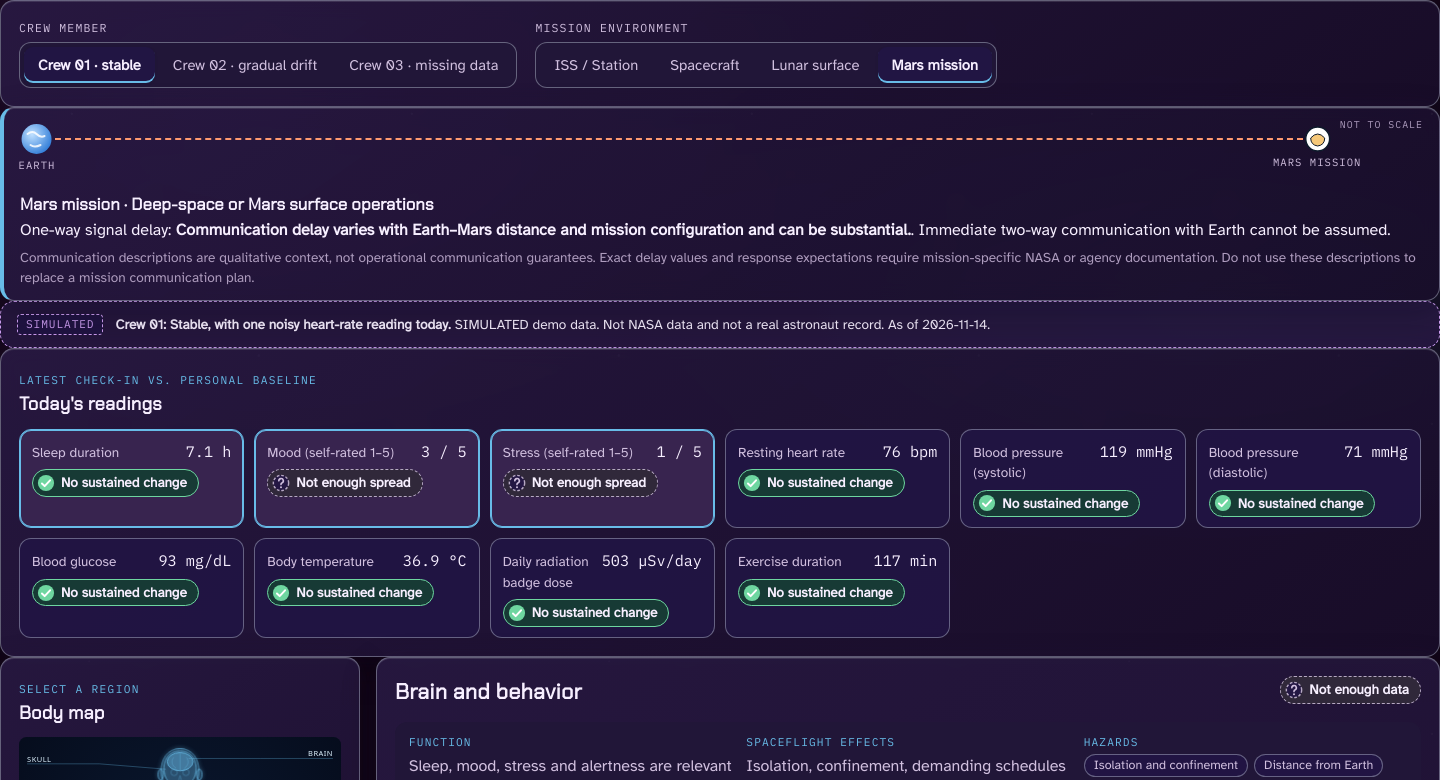
Scenario: DashboardPage (simulated fixtures) › opens on the most urgent region and updates the comms banner when the environment changes
Click the radio button labelled "Crew 02 · gradual drift".
click(245, 65)  # box [173,56,317,74]
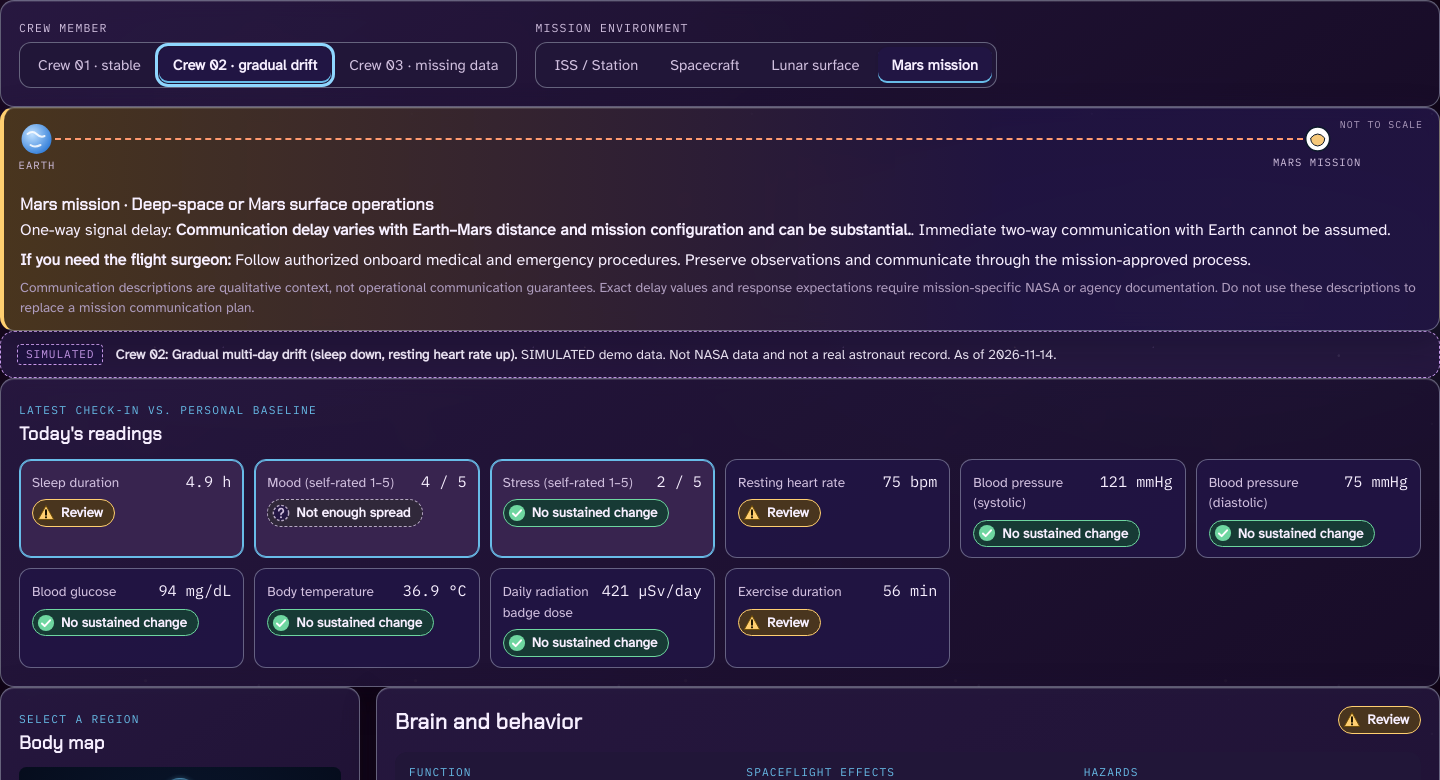
Expected: the element with test id "region-panel" shows "Brain and behavior", [395,708,582,736]
Expected: the message with test id "comms-banner" shows "Mars mission", [1273,155,1362,169]
Click the radio button labelled "Lunar surface".
click(816, 65)  # box [772,56,860,74]
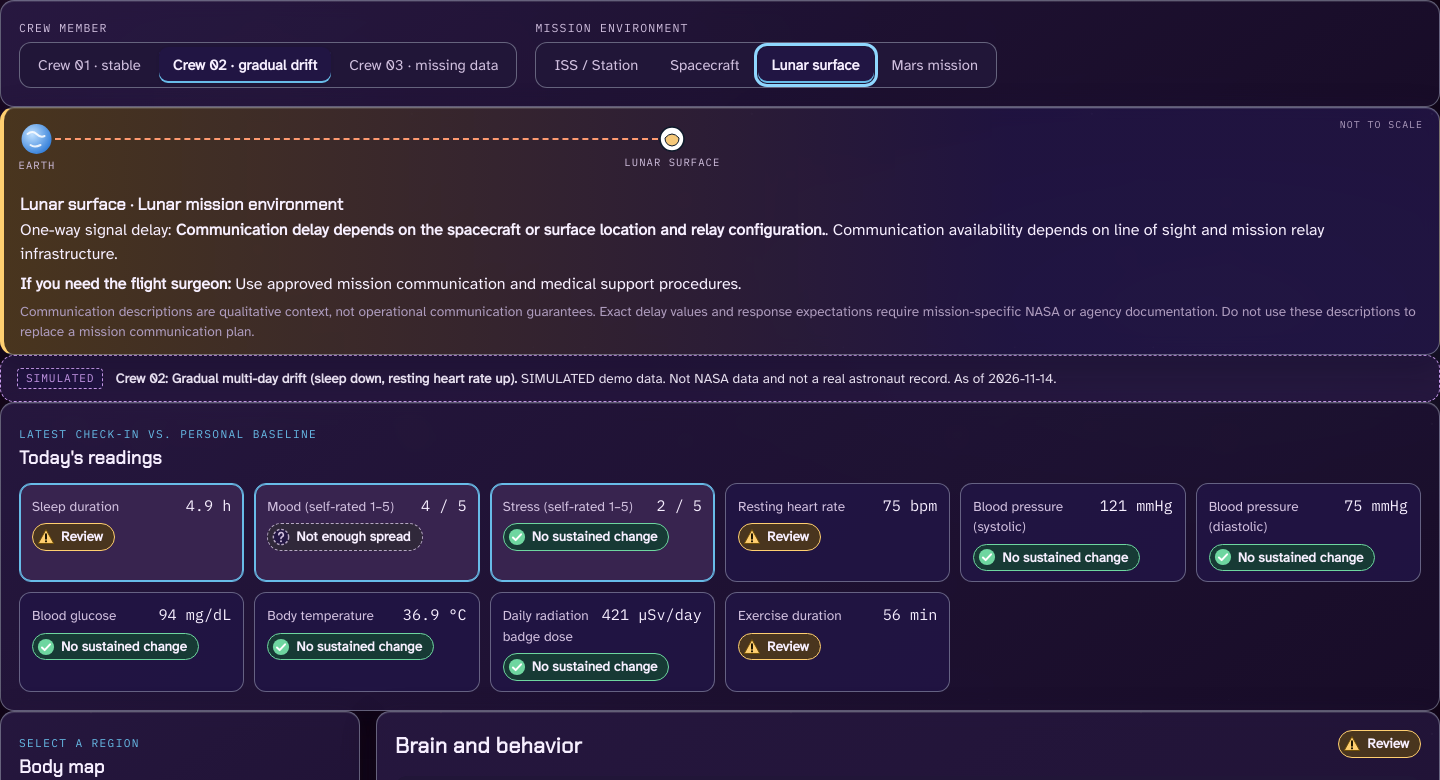
Result: the message with test id "comms-banner" shows "Lunar surface" at [624,155,720,169]
Result: the message with test id "comms-banner" shows "Communication delay depends on the spacecraft or surface location and relay configuration." at [176,220,825,240]
